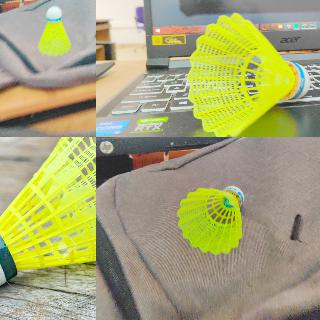shuttlecock: (186, 12, 311, 136), (0, 137, 95, 290), (177, 186, 243, 254), (36, 6, 70, 56)
